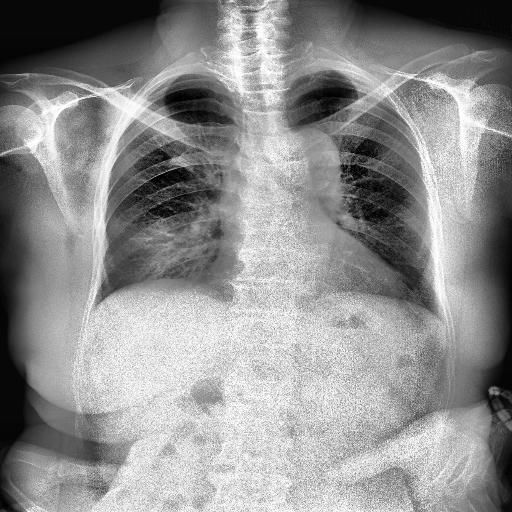0- Aortic enlargement: (270, 130, 341, 194), (284, 127, 342, 202), (272, 124, 342, 186)
3- Cardiomegaly: (200, 258, 410, 306)
